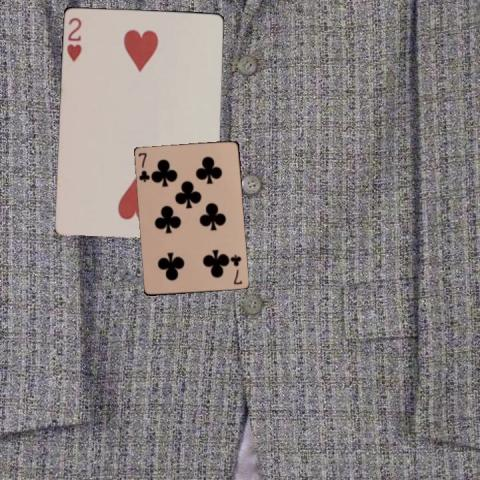2h: (63, 14, 83, 63)
7c: (136, 150, 152, 183), (229, 251, 244, 286)
